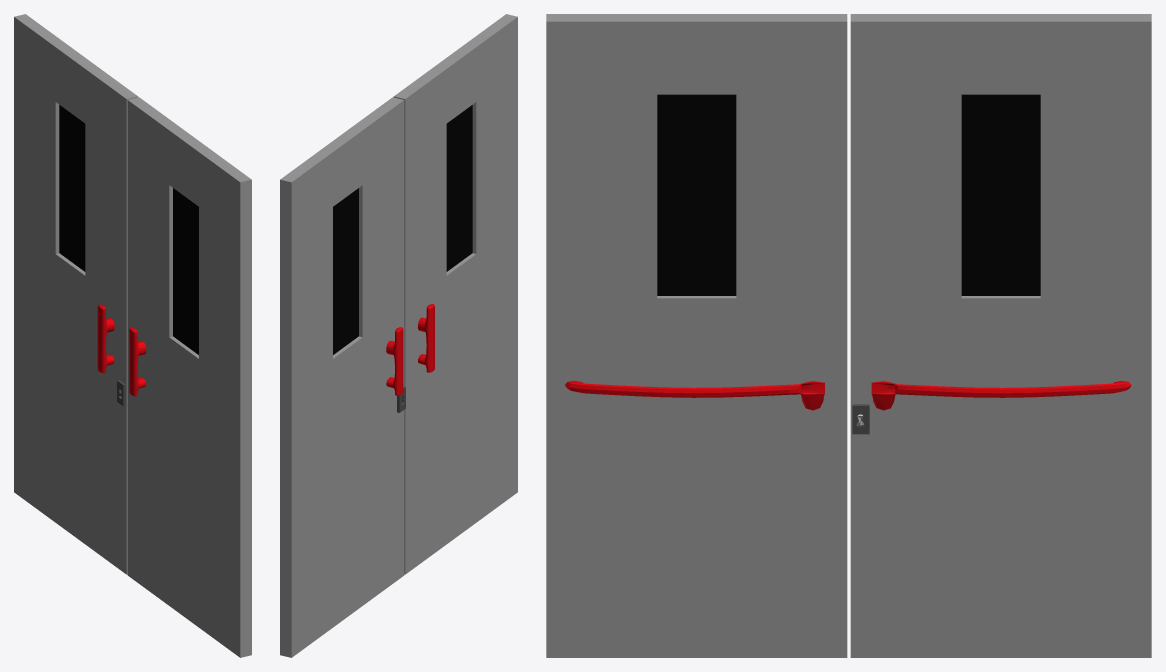
The model's file is DoubleDoor.fbx.
3 renders of one model, left to right at view 1: azimuth 30°, elevation 25°; view 2: azimuth 150°, elevation 25°; view 3: azimuth 270°, elevation 25°, orthographic. The views are drawn at different scales.
Parts seen in each view (by area): view 1: PuertaDoble; view 2: PuertaDoble; view 3: PuertaDoble.
Boxes of the visible parts, bbox=[...] form: PuertaDoble: bbox=[14, 14, 251, 657]; PuertaDoble: bbox=[280, 14, 517, 657]; PuertaDoble: bbox=[546, 14, 1151, 657].
Size of the model in its own units: 77.09 by 930 by 802.
